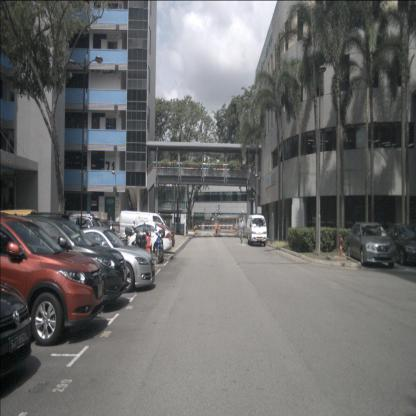human-pedestrian-adult: (239, 217, 245, 245), (2, 197, 7, 223), (108, 216, 113, 238)
vehicle-car: (0, 220, 105, 347), (0, 216, 127, 311), (45, 227, 155, 293), (0, 280, 32, 390), (346, 222, 396, 267), (119, 211, 175, 247), (119, 222, 172, 255), (68, 214, 112, 248), (384, 223, 415, 267), (247, 214, 268, 247)
vehicle-motorcycle: (107, 222, 132, 262), (132, 220, 147, 266), (143, 222, 154, 262), (155, 230, 165, 263)
